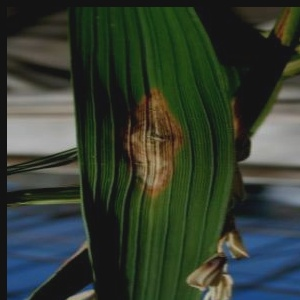Brown_Spot: (106, 72, 200, 204)
